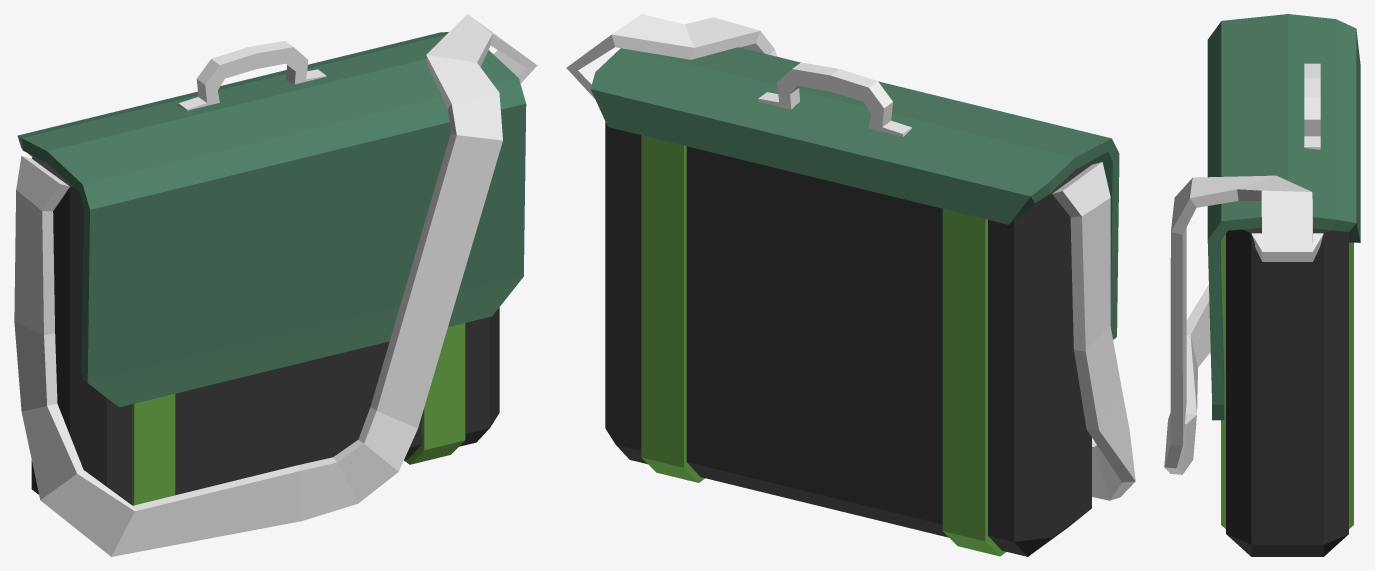
Rendered from Bag_01.glb.
3 views of the same model, side by side, from view 1: azimuth 30°, elevation 25°; view 2: azimuth 150°, elevation 25°; view 3: azimuth 270°, elevation 25° (orthographic). The views are drawn at different scales.
Parts seen in each view (by area): view 1: Bag_1_mesh; view 2: Bag_1_mesh; view 3: Bag_1_mesh.
Part boxes in pixels (x1,y1,x2,y2): Bag_1_mesh: [14, 14, 537, 556]; Bag_1_mesh: [566, 14, 1135, 556]; Bag_1_mesh: [1164, 14, 1360, 556].
Bounding box in the file's own units: 0.4503 × 0.3548 × 0.1597.
1 material, 1 textured.
